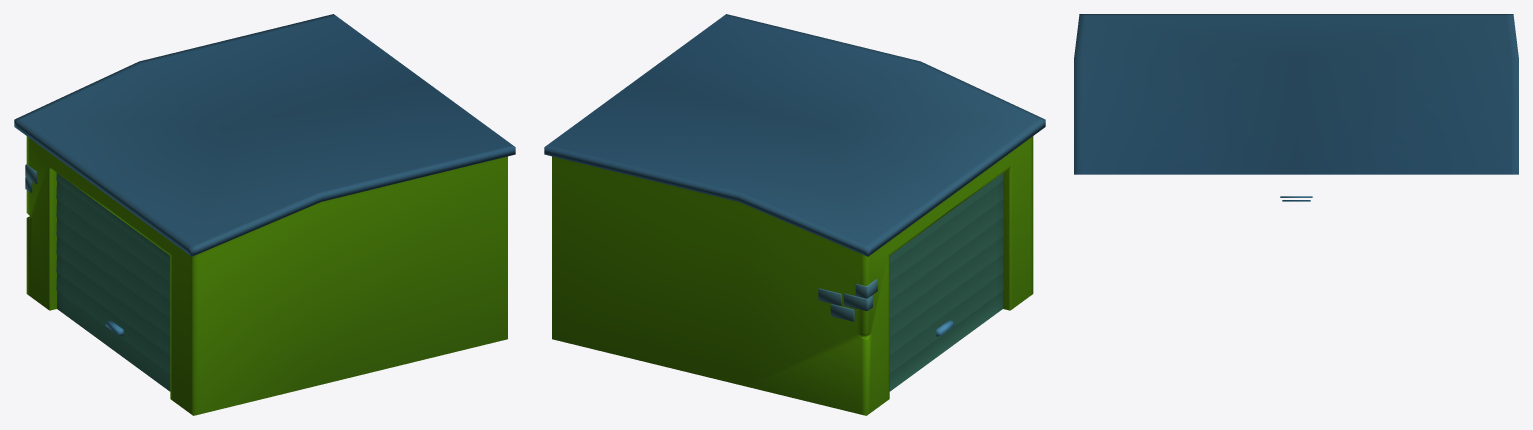
Rendered from Garage04Night.glb.
3 renders of one model, left to right at view 1: azimuth 30°, elevation 25°; view 2: azimuth 150°, elevation 25°; view 3: azimuth 270°, elevation 25°, orthographic. The views are drawn at different scales.
Visible parts, largest first — view 1: Garage04Night; view 2: Garage04Night; view 3: Garage04Night.
Part boxes in pixels (x1,y1,x2,y2): Garage04Night: (14,14,515,415); Garage04Night: (544,14,1045,415); Garage04Night: (1074,14,1518,201).
Bounding box in the file's own units: 7.84 × 4.6 × 7.69.
Materials: 2 (1 with a texture image).
